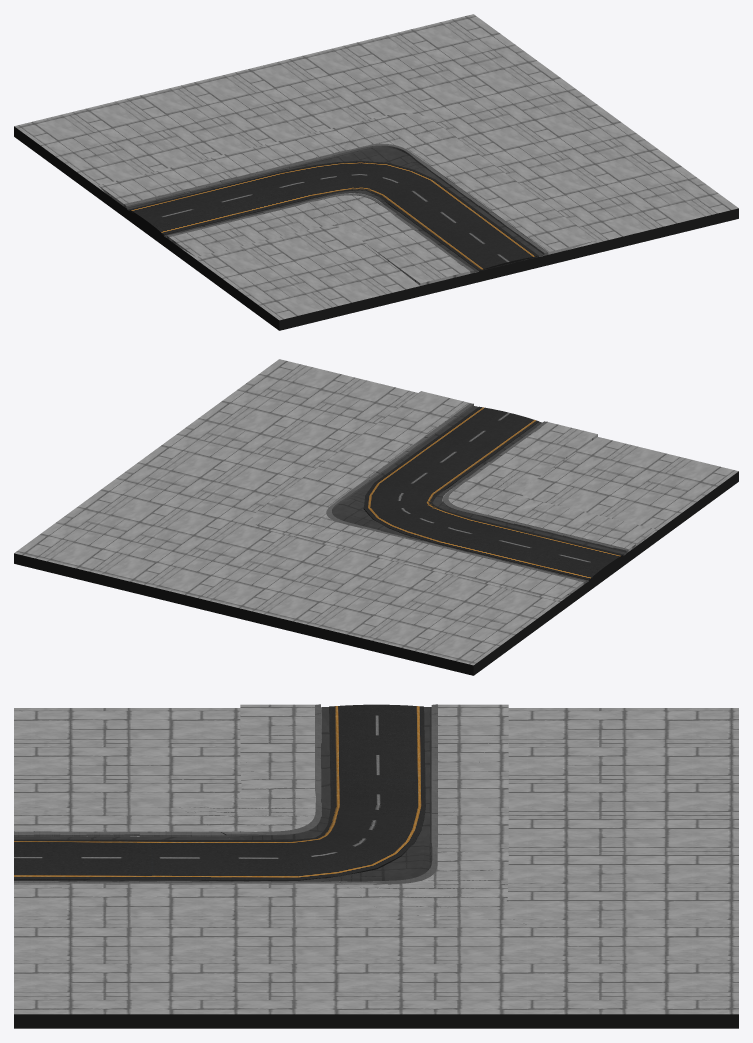
File: Tile_Bend.FBX
3 views of the same model, one above another, from view 1: azimuth 30°, elevation 25°; view 2: azimuth 150°, elevation 25°; view 3: azimuth 270°, elevation 25° (orthographic). The views are drawn at different scales.
Parts seen in each view (by area): view 1: Tile_Bend; view 2: Tile_Bend; view 3: Tile_Bend.
Part boxes in pixels (box(x1,y1,x2,y2)): Tile_Bend: box(14, 14, 738, 330); Tile_Bend: box(14, 359, 738, 675); Tile_Bend: box(14, 704, 738, 1028).
Bounding box in the file's own units: 1811 × 54.41 × 1811.
